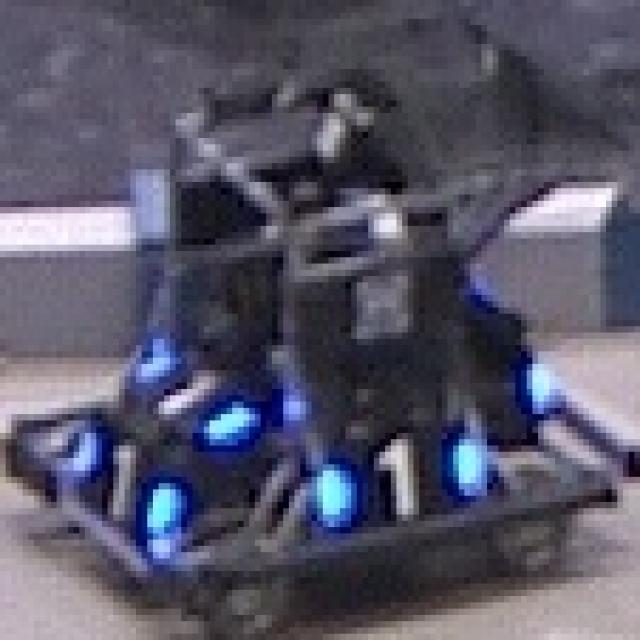B1: (312, 433, 482, 527), (68, 420, 181, 540)
